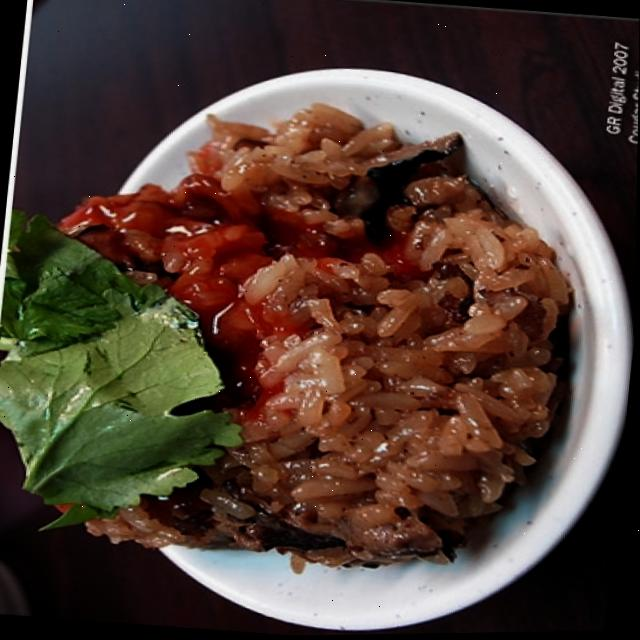米饭主食: (23, 64, 615, 621)
